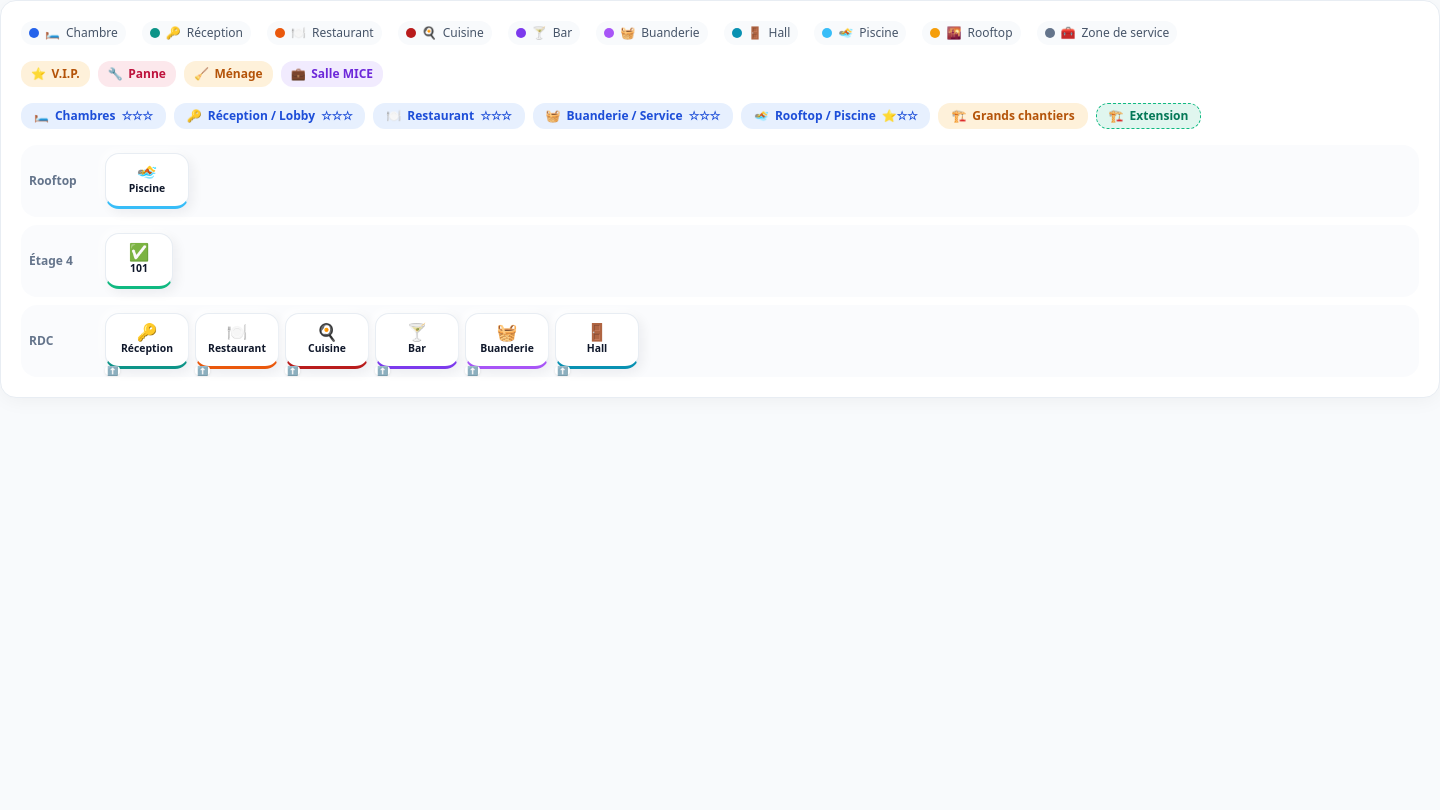
Test: SchematicHotelView / opening the upgrade modal › clicking the rooftop opens the pool modal
Click the button with test id "schematic-amenity-pool" at (147, 181), box [105,153,189,209]
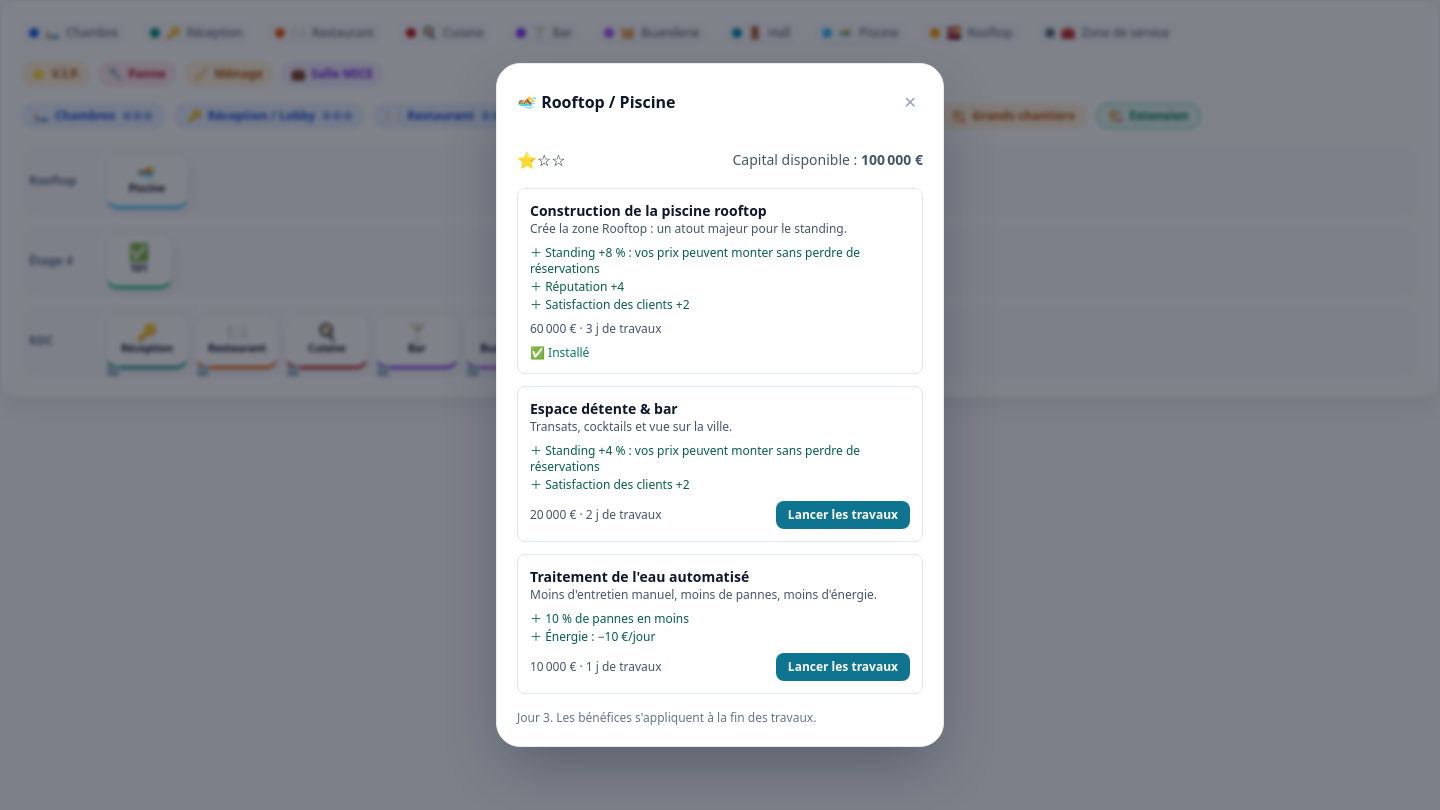
Now the dialog "Rooftop" is shown
